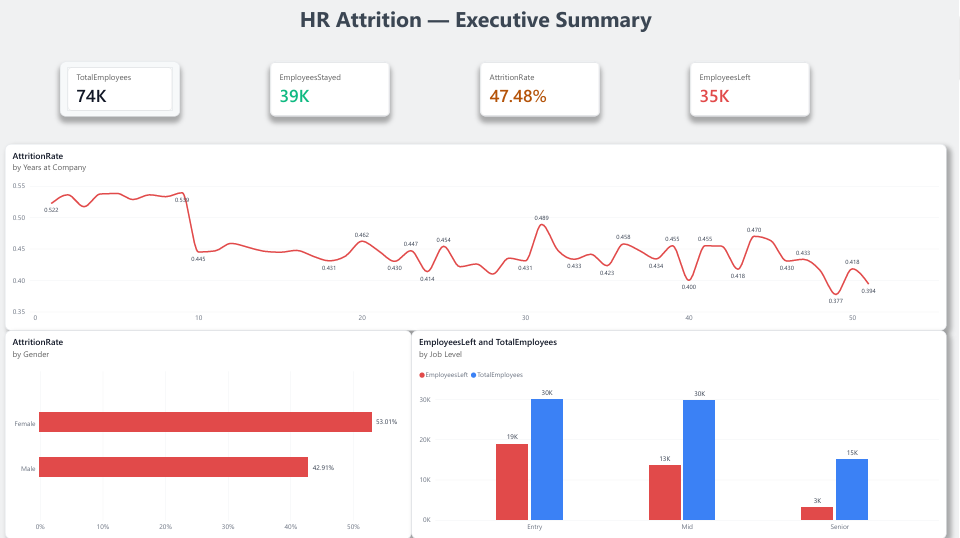

This screenshot's page, from the dashboard's own definition file:
{"tool":"powerbi","page":{"name":"Executive Summary","canvas":[1920,1080],"ordinal":0},"visuals":[{"type":"textbox","box":[10,0,1882.5,100],"z":0},{"type":"cardVisual","fields":{"Data":["factemployees.TotalEmployees"]},"box":[120,125,240,110],"z":1000},{"type":"cardVisual","fields":{"Data":["factemployees.EmployeesLeft"]},"box":[1380,125,240,110],"z":2000},{"type":"cardVisual","fields":{"Data":["factemployees.AttritionRate"]},"box":[960,125,240,110],"z":3000},{"type":"cardVisual","fields":{"Data":["factemployees.EmployeesStayed"]},"box":[540,125,240,110],"z":4000},{"type":"lineChart","fields":{"Category":["factemployees.Years at Company"],"Y":["factemployees.AttritionRate"]},"box":[10,290,1882.5,372.5],"z":5000},{"type":"clusteredBarChart","fields":{"Y":["factemployees.AttritionRate"],"Category":["factemployees.Gender"]},"box":[10,662.5,812.5,417.5],"z":6000},{"type":"clusteredColumnChart","fields":{"Category":["DimJobLevel.Job Level"],"Y":["factemployees.EmployeesLeft","factemployees.TotalEmployees"]},"box":[822.5,662.5,1070,417.5],"z":7000}]}

Visuals, with their boxes in screenshot pixels (x1, y1, x2, y2), scaled from the page's 1920x1080 canvas onto the 960x538 screenshot:
textbox: (left=5, top=0, right=946, bottom=50)
cardVisual - factemployees.TotalEmployees: (left=60, top=62, right=180, bottom=117)
cardVisual - factemployees.EmployeesLeft: (left=690, top=62, right=810, bottom=117)
cardVisual - factemployees.AttritionRate: (left=480, top=62, right=600, bottom=117)
cardVisual - factemployees.EmployeesStayed: (left=270, top=62, right=390, bottom=117)
lineChart - factemployees.Years at Company x factemployees.AttritionRate: (left=5, top=144, right=946, bottom=330)
clusteredBarChart - factemployees.AttritionRate x factemployees.Gender: (left=5, top=330, right=411, bottom=537)
clusteredColumnChart - DimJobLevel.Job Level x factemployees.EmployeesLeft: (left=411, top=330, right=946, bottom=537)
